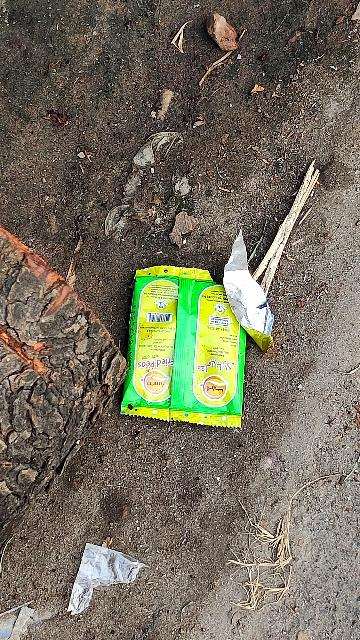packet: (134, 263, 243, 429)
